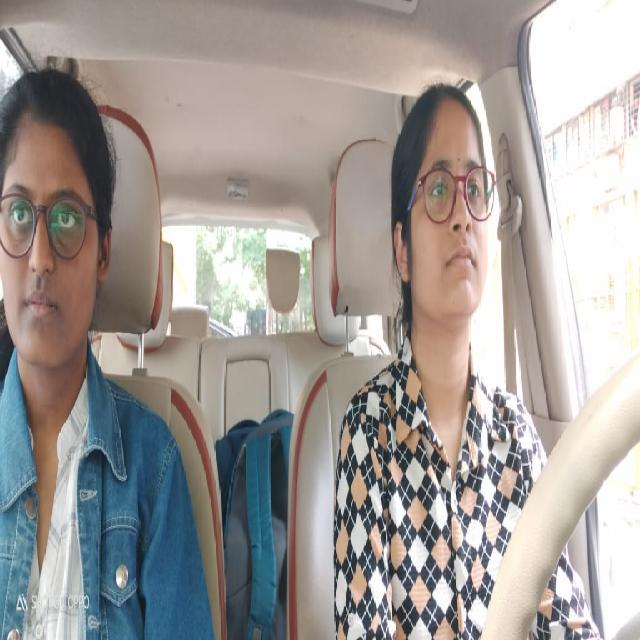person: (0, 64, 118, 383), (390, 72, 497, 338)
